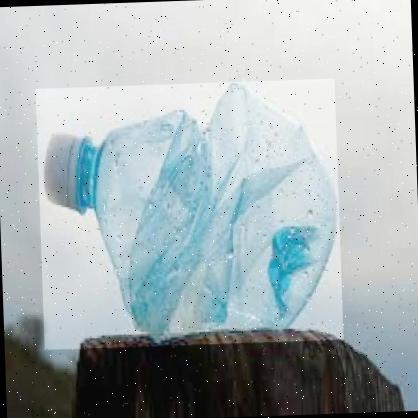bottle: (36, 78, 344, 350)
cap: (42, 128, 92, 216)
